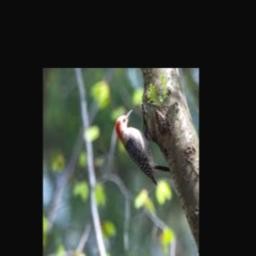Woodpecker: (116, 107, 171, 185)
